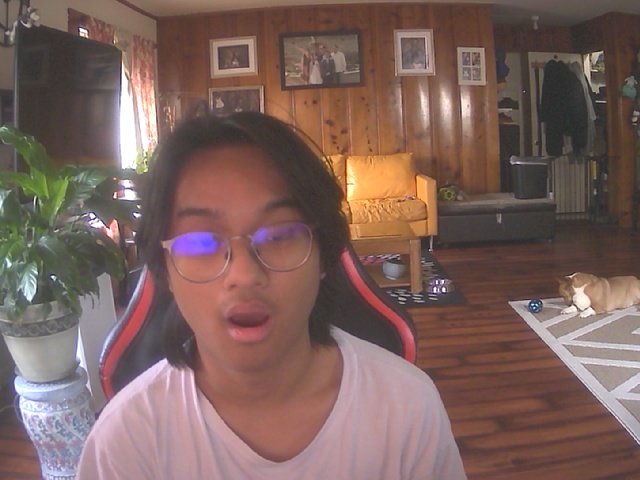fear: (152, 116, 338, 378)
